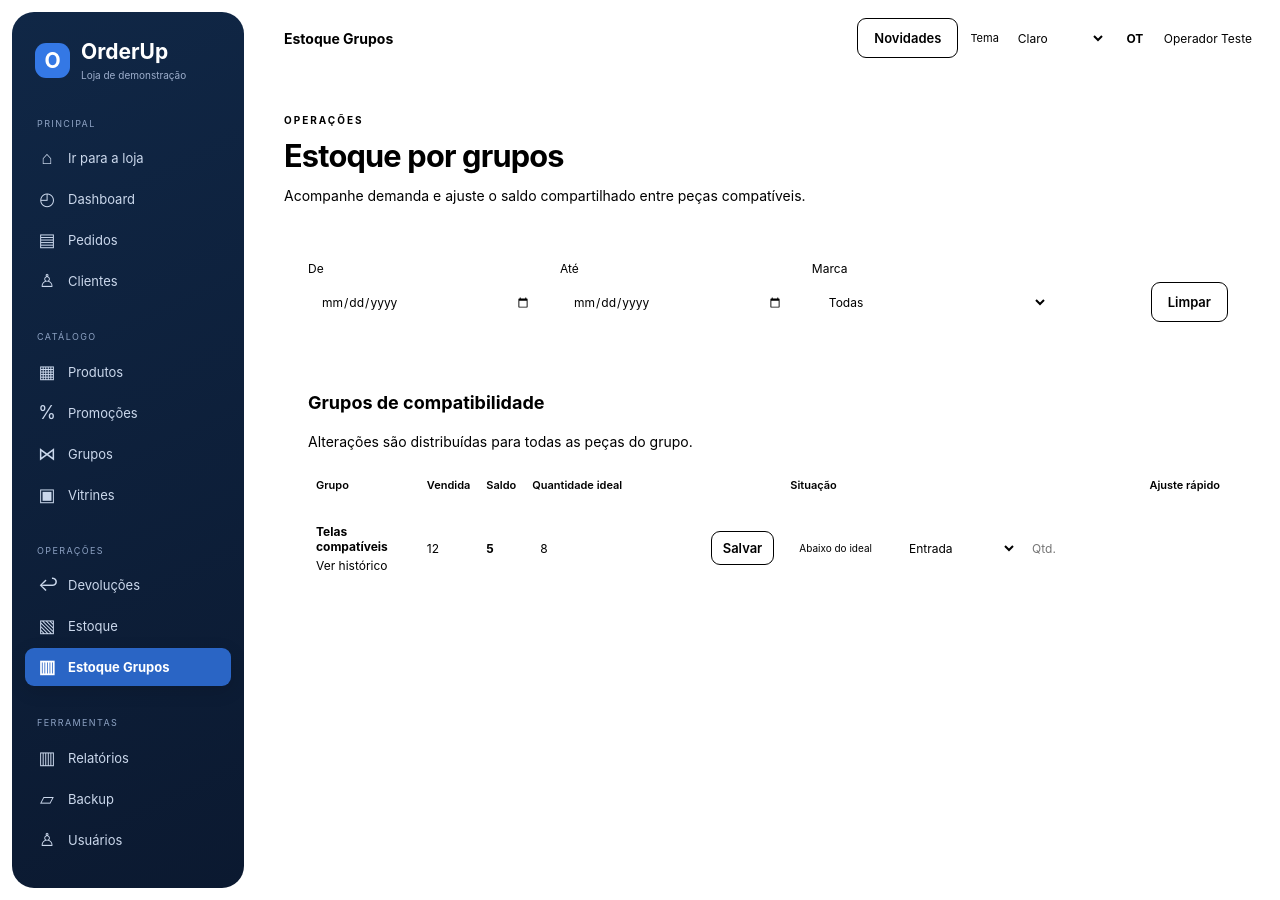
it: fase 5 · estoque › salva quantidade ideal e consulta o histórico do grupo
Replace the text in the number field named "Quantidade ideal de Telas compatíveis" with "10": (618, 548) [532,533,704,564]
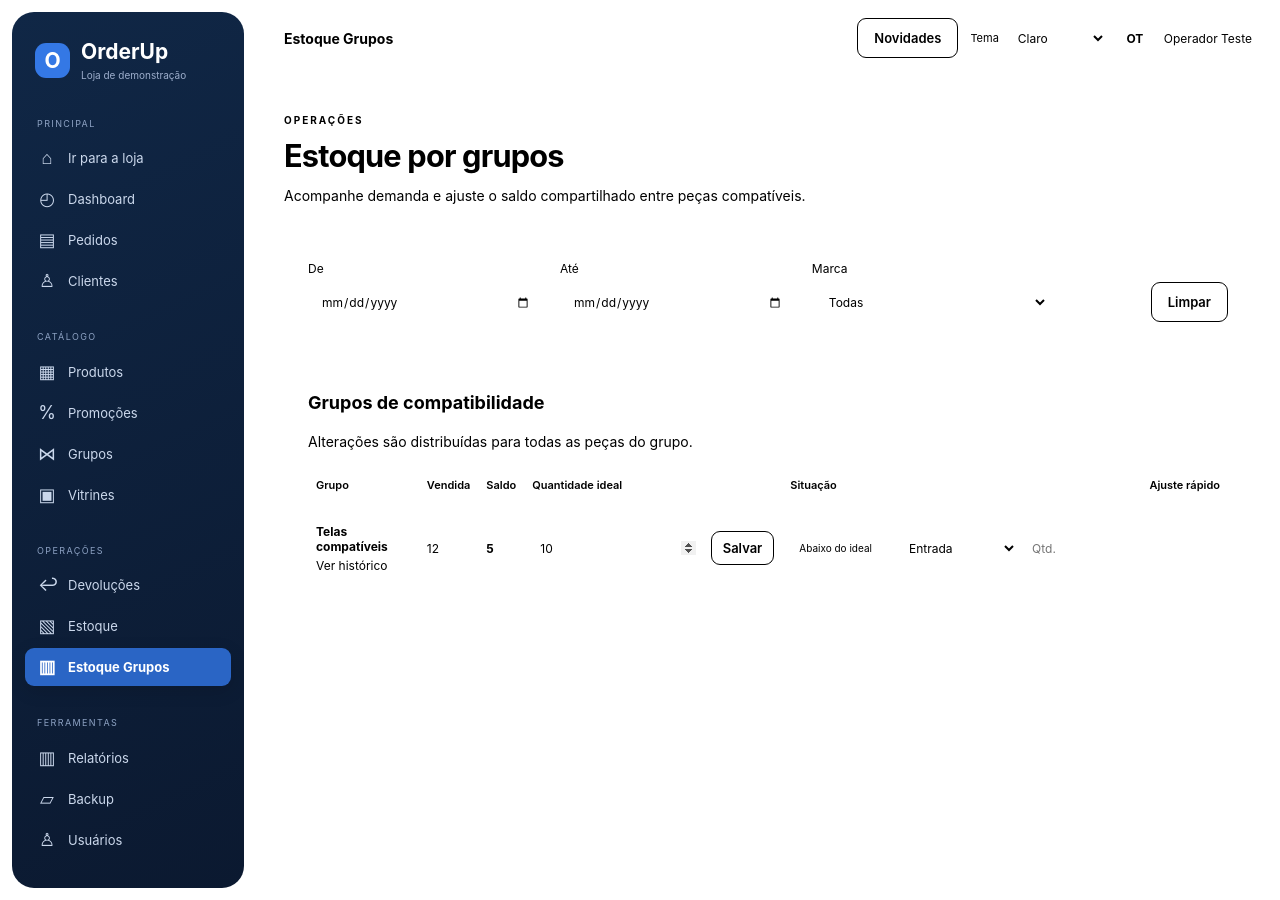
Click the button "Salvar": click(742, 548) [711,531,774,565]
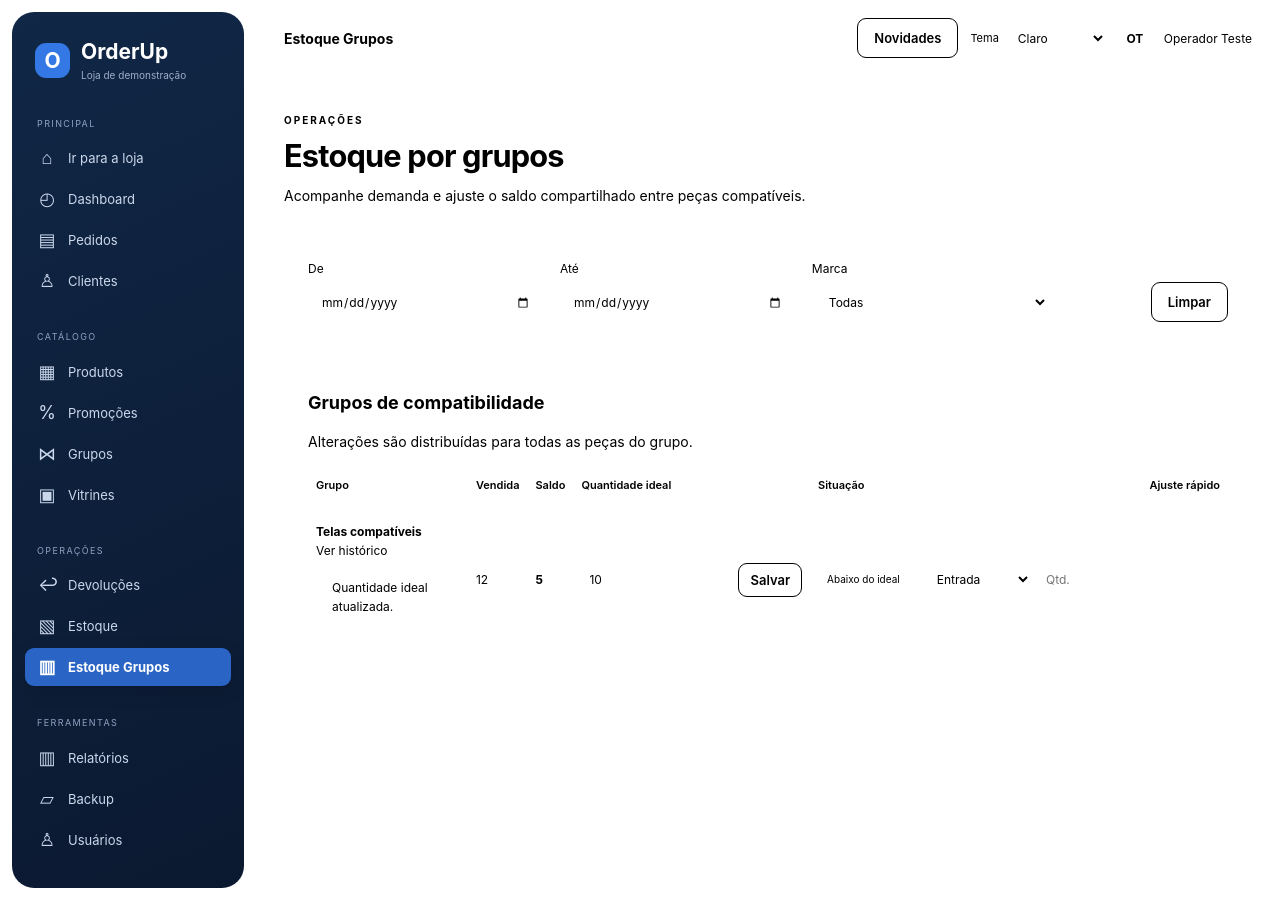
Click the button "Ver histórico": click(352, 550) [316,543,388,558]
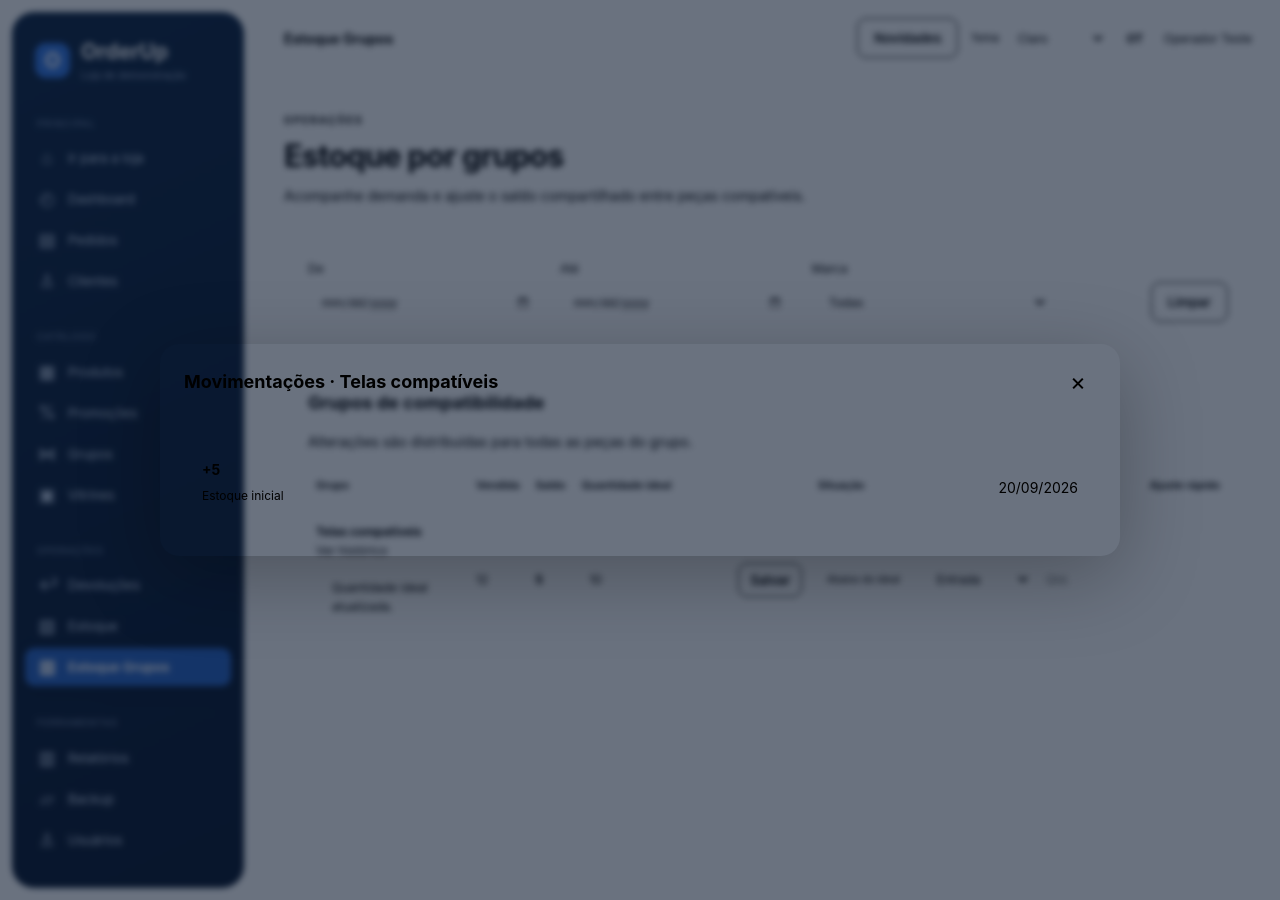
Expected: the dialog "Movimentações · Telas compatíveis" is shown, [160,344,1120,556]
Expected: the text "Estoque inicial" is shown, [202,486,284,506]
